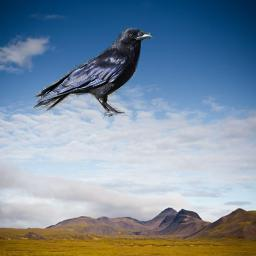Crow: (31, 25, 155, 120)
